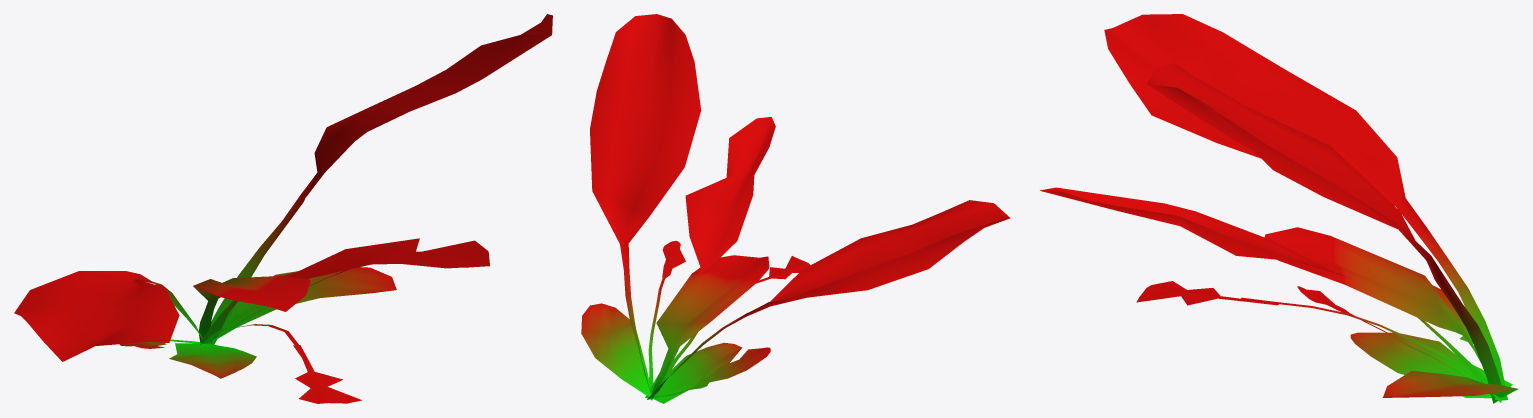
The model's file is Var18_LOD0.fbx.
The picture shows the model from 3 angles, left to right: view 1: azimuth 30°, elevation 25°; view 2: azimuth 150°, elevation 25°; view 3: azimuth 270°, elevation 25°; orthographic projection. The views are drawn at different scales.
Visible parts, largest first — view 1: _k53p_Var18_LOD0; view 2: _k53p_Var18_LOD0; view 3: _k53p_Var18_LOD0.
Boxes of the visible parts, bbox=[...] form: _k53p_Var18_LOD0: bbox=[14, 14, 552, 403]; _k53p_Var18_LOD0: bbox=[581, 14, 1010, 403]; _k53p_Var18_LOD0: bbox=[1040, 14, 1518, 403].
Size of the model in its own units: 25.86 by 18.64 by 19.99.
